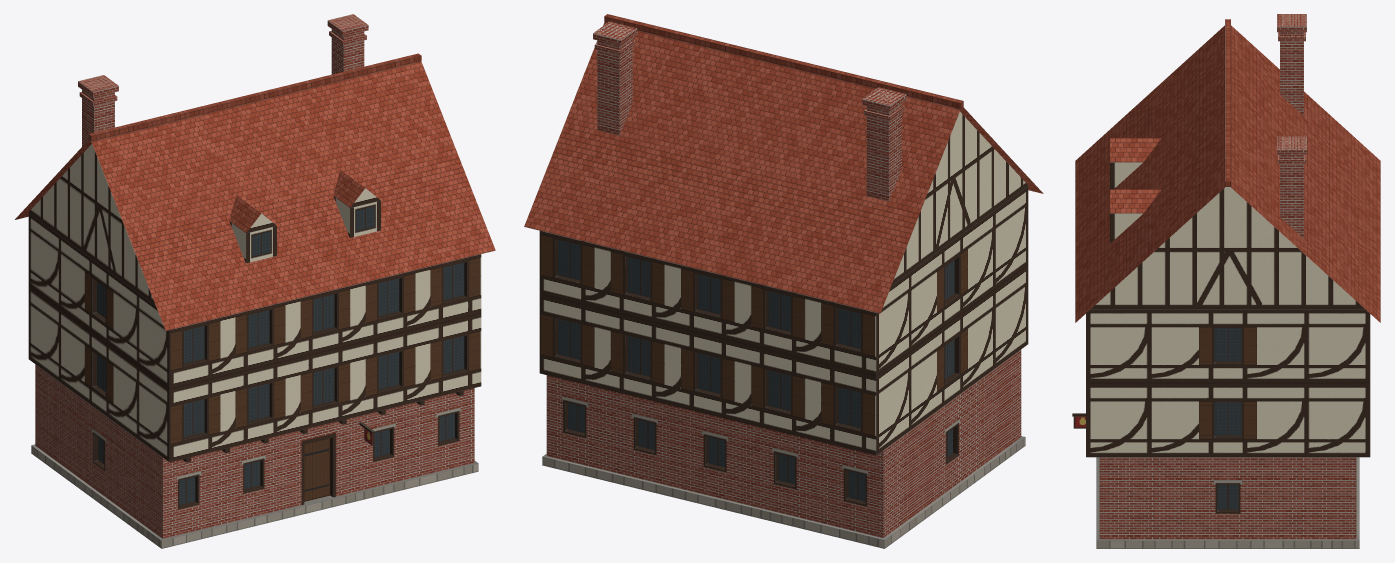
Rendered from timberinn.glb.
The picture shows the model from 3 angles, left to right: view 1: azimuth 30°, elevation 25°; view 2: azimuth 150°, elevation 25°; view 3: azimuth 270°, elevation 25°; orthographic projection. The views are drawn at different scales.
Visible parts, largest first — view 1: TimberInn; view 2: TimberInn; view 3: TimberInn.
Boxes of the visible parts, x1,y1,x2,y2 form: TimberInn: (15, 14, 495, 548); TimberInn: (524, 14, 1043, 548); TimberInn: (1072, 14, 1380, 548).
Bounding box in the file's own units: 12.7 × 14.2 × 10.2.
Materials: 1 (1 with a texture image).
